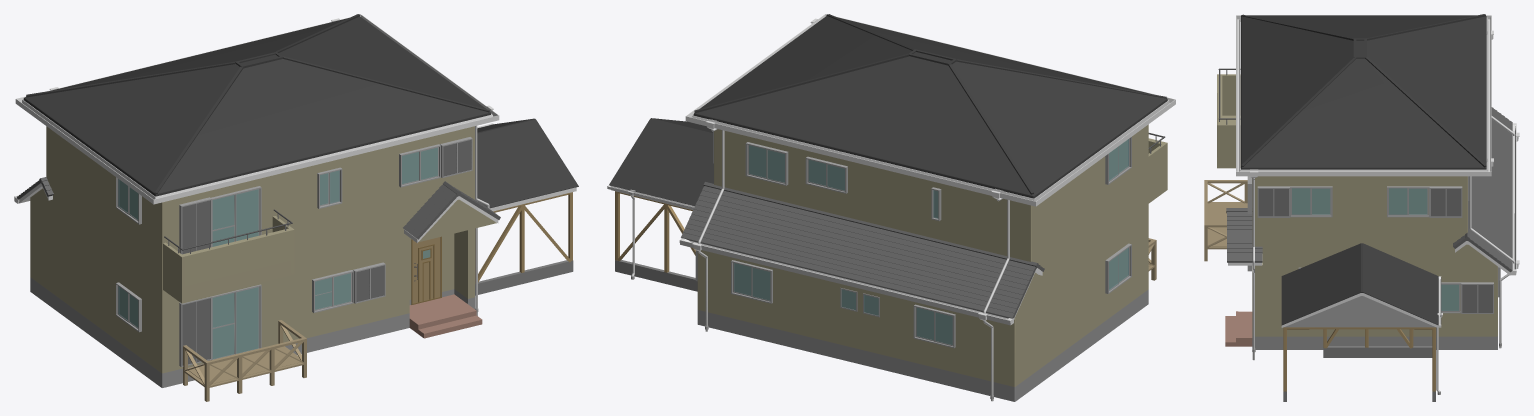
File: House_003_high.fbx
3 renders of one model, left to right at view 1: azimuth 30°, elevation 25°; view 2: azimuth 150°, elevation 25°; view 3: azimuth 270°, elevation 25°, orthographic. The views are drawn at different scales.
Parts seen in each view (by area): view 1: High; view 2: High; view 3: High.
Boxes of the visible parts, x1=… form: High: x1=14, y1=14, x2=578, y2=401; High: x1=607, y1=14, x2=1175, y2=401; High: x1=1204, y1=14, x2=1519, y2=401.
Size of the model in its own units: 1397 by 765 by 913.
